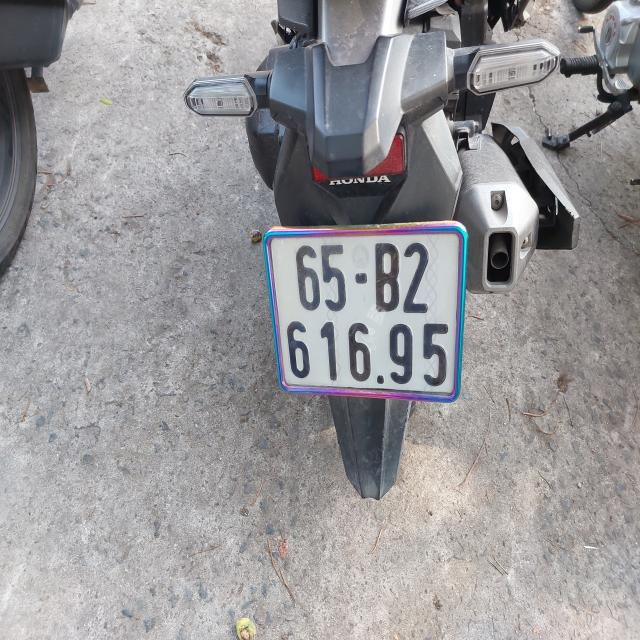1: (319, 318, 340, 382)
2: (402, 244, 430, 316)
5: (421, 319, 450, 390), (322, 242, 350, 310)
6: (291, 241, 319, 317), (347, 318, 373, 386), (288, 314, 313, 383)
9: (385, 324, 415, 386)
B: (373, 241, 401, 316)
